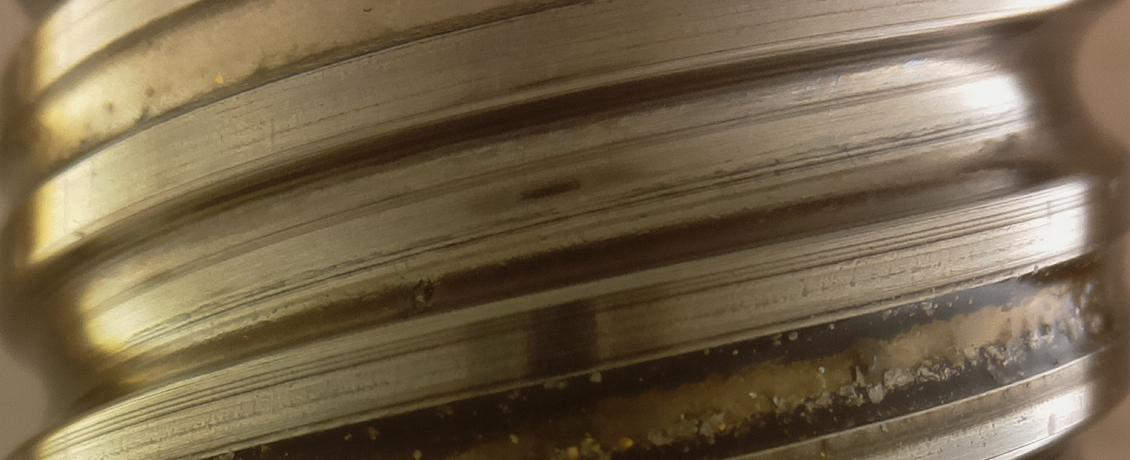pitting: (411, 278, 434, 312)
